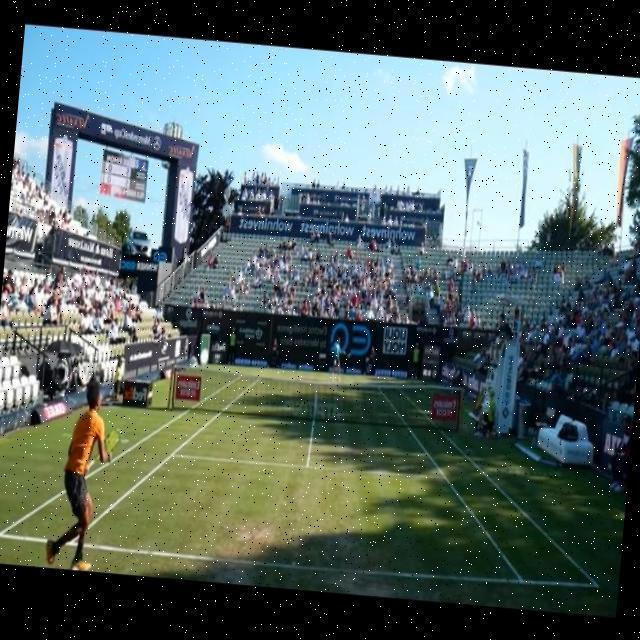court: (0, 352, 615, 590)
net: (165, 358, 465, 438)
player: (40, 373, 124, 572)
